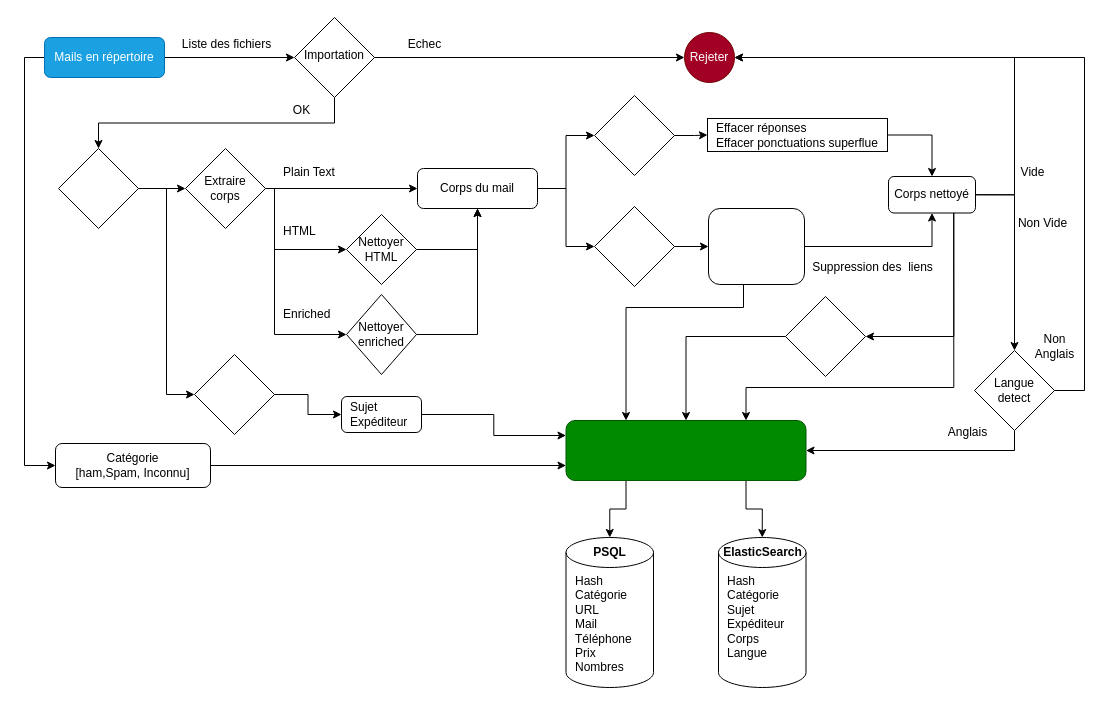
This 1110x705 diagram has some shape labels left out. The centre of each missing label's shape, as x and y in pixels:
Création document: [98,188]
Hash corps (md5): [825,336]
Liens (re): [634,246]
Mise en base: [685,450]
Méta données: [234,394]
Nettoyage (re): [634,135]
URL MAIL TELEPHONE PRIX NOMBRE: [756,246]
